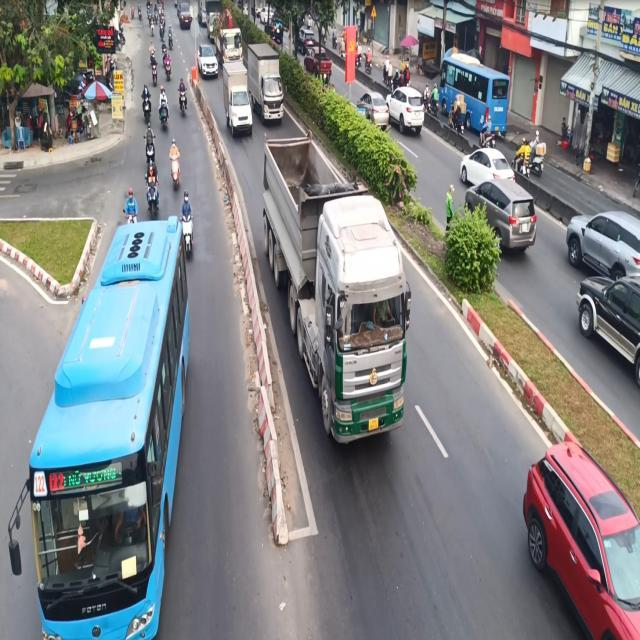bus: (0, 215, 190, 636), (438, 50, 510, 137)
car: (522, 439, 639, 639), (469, 173, 546, 255), (571, 267, 640, 358), (570, 210, 640, 271), (454, 143, 520, 192), (386, 85, 426, 136), (357, 92, 392, 130)
motorcycle: (180, 216, 199, 256), (144, 183, 164, 217), (167, 157, 184, 191), (141, 142, 159, 162), (478, 132, 500, 148)
person: (444, 184, 455, 230), (124, 187, 139, 215), (178, 192, 194, 217), (144, 121, 158, 147), (147, 163, 159, 189), (168, 137, 181, 157), (482, 116, 495, 136)
truck: (260, 131, 411, 445), (243, 42, 289, 131), (215, 66, 260, 138)
